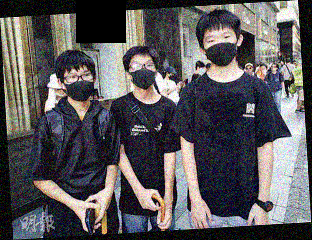mask_weared_incorrect: (55, 87, 67, 101)
with_mask: (203, 30, 240, 67), (65, 69, 96, 102), (131, 59, 158, 90), (168, 71, 176, 81), (198, 66, 206, 74)
without_mask: (246, 64, 255, 75), (271, 63, 279, 72)
